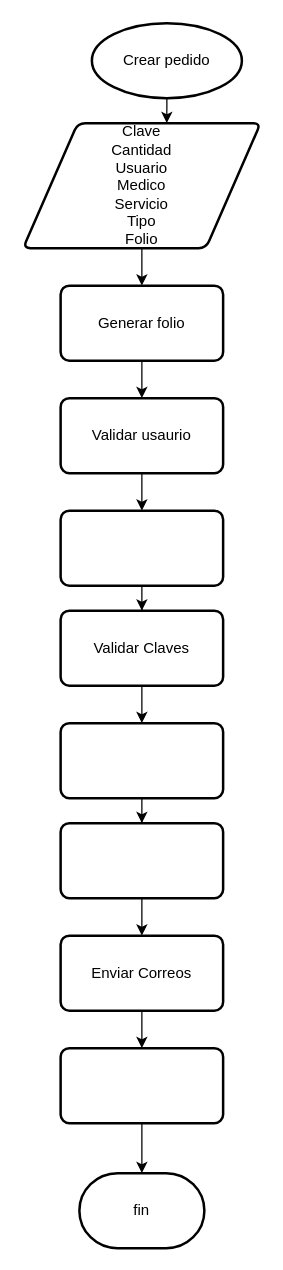
Image size: 283x1270. Some labels were removed from this diagram. Each missing label, with the box of its shape:
Enviar Pedido a ISSEA: (59, 1046, 224, 1124)
Registrar Detalles de pedido: (59, 821, 224, 899)
Registrar Pedido: (59, 721, 224, 799)
Validar Medico: (59, 509, 224, 586)
